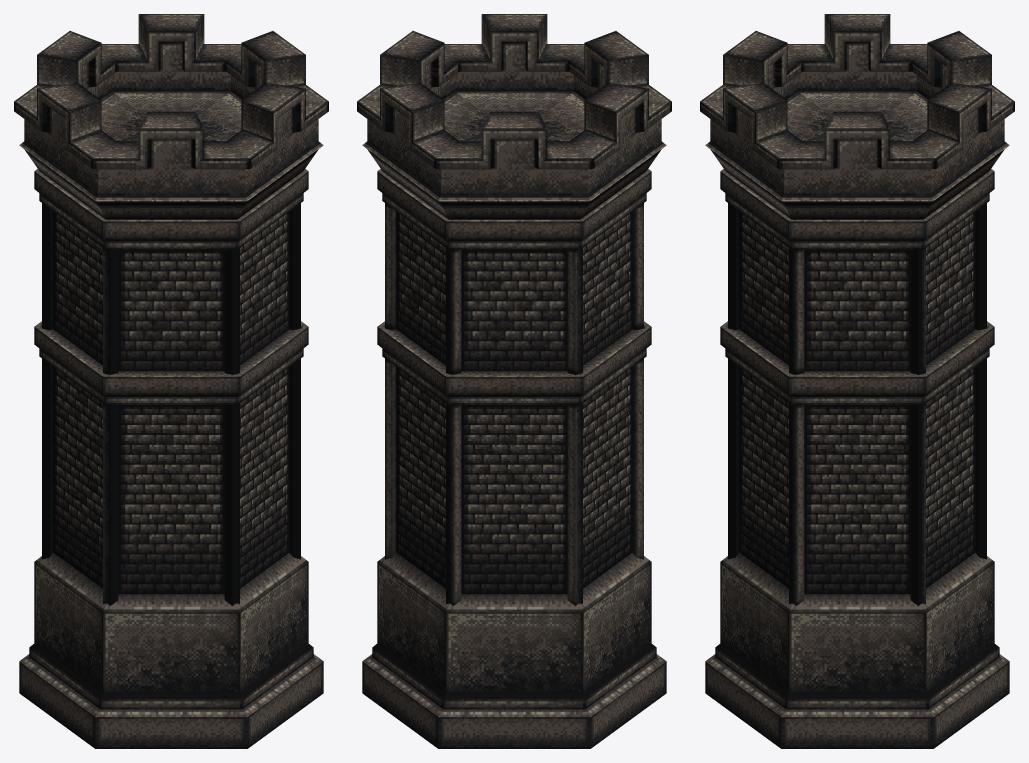
File: EnvBdgMD_Castle_LostSeed_A_Tower_A.FBX
3 views of the same model, side by side, from view 1: azimuth 30°, elevation 25°; view 2: azimuth 150°, elevation 25°; view 3: azimuth 270°, elevation 25° (orthographic).
Parts seen in each view (by area): view 1: EnvBdgMD_Castle_LostSeed_A_Tower_A; view 2: EnvBdgMD_Castle_LostSeed_A_Tower_A; view 3: EnvBdgMD_Castle_LostSeed_A_Tower_A.
Boxes of the visible parts, x1,y1,x2,y2 form: EnvBdgMD_Castle_LostSeed_A_Tower_A: (14,14,328,748); EnvBdgMD_Castle_LostSeed_A_Tower_A: (357,14,671,748); EnvBdgMD_Castle_LostSeed_A_Tower_A: (700,14,1014,748).
Bounding box in the file's own units: 620 × 1560 × 716.
